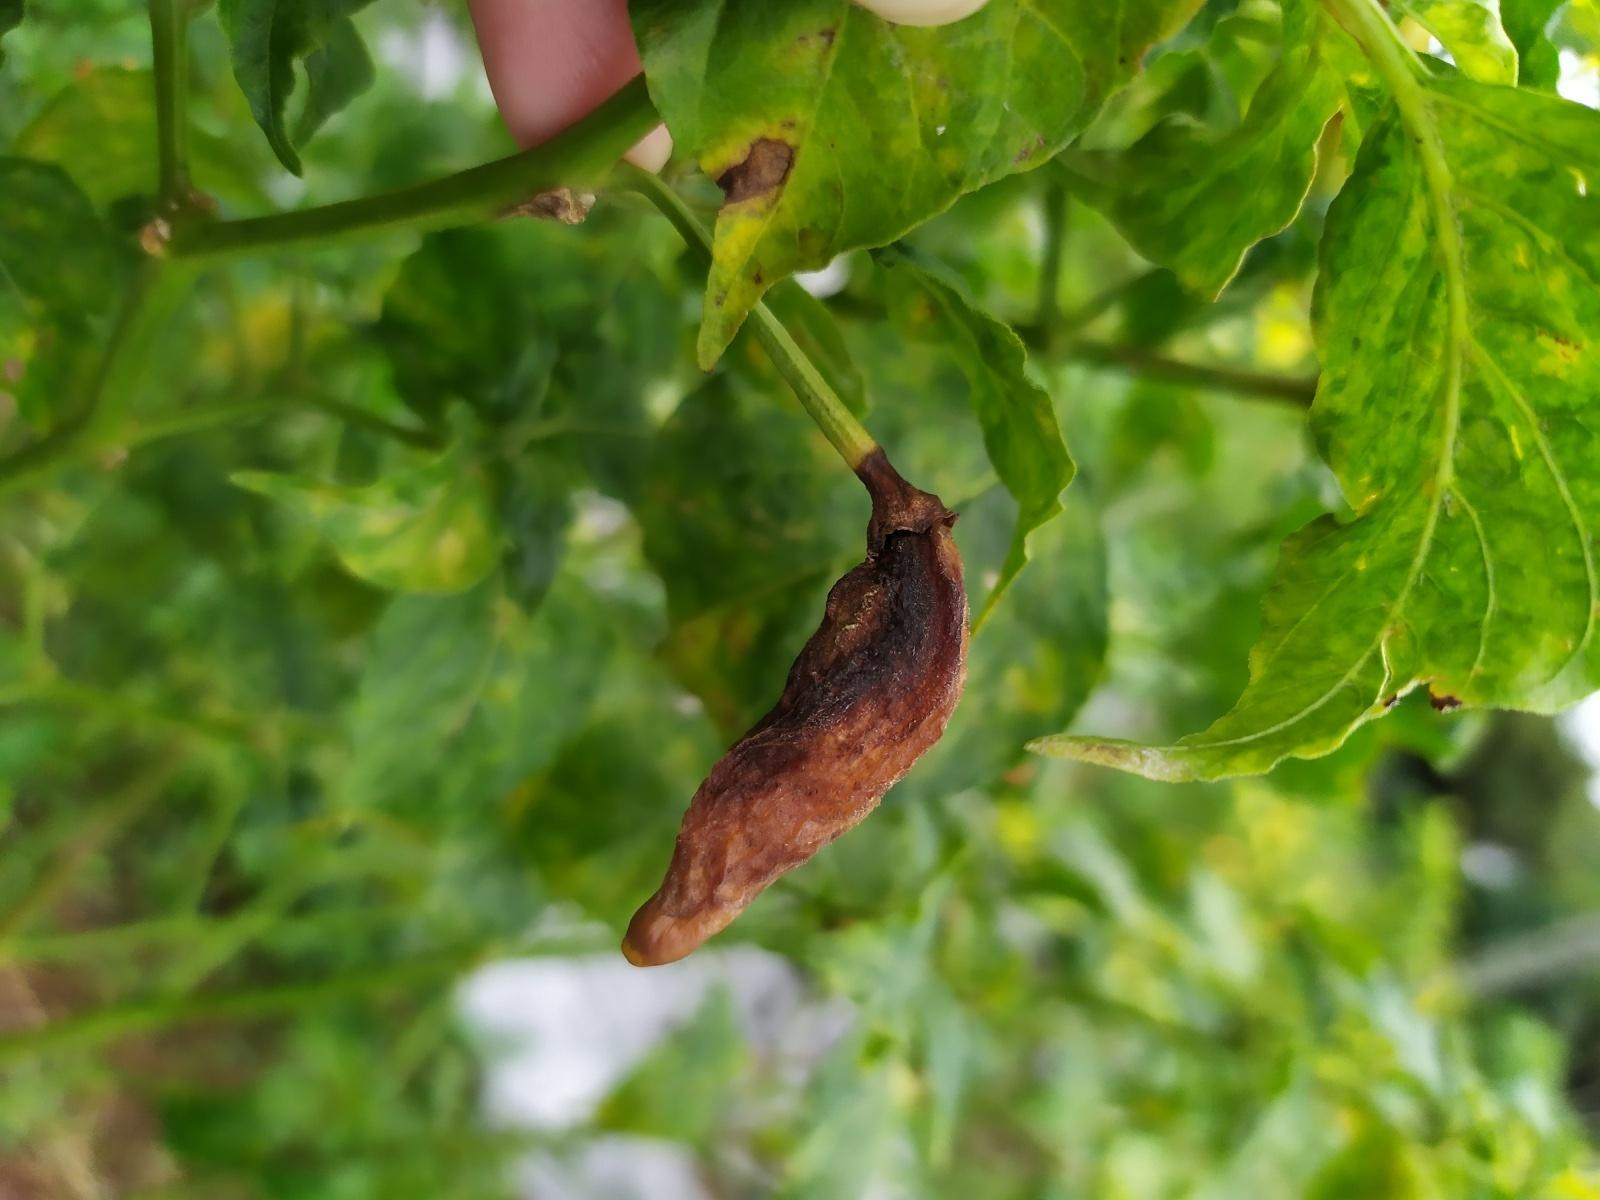antraknosa: (619, 446, 971, 967)
